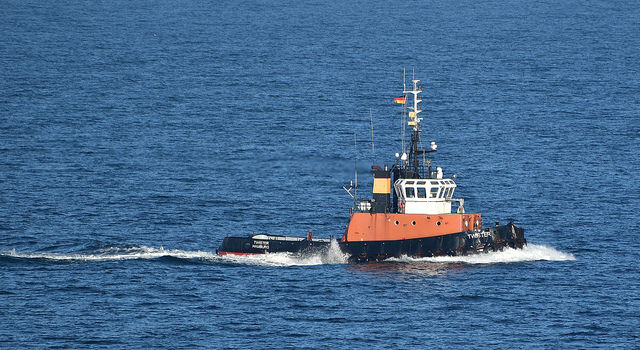tug_boat: (214, 74, 528, 266)
